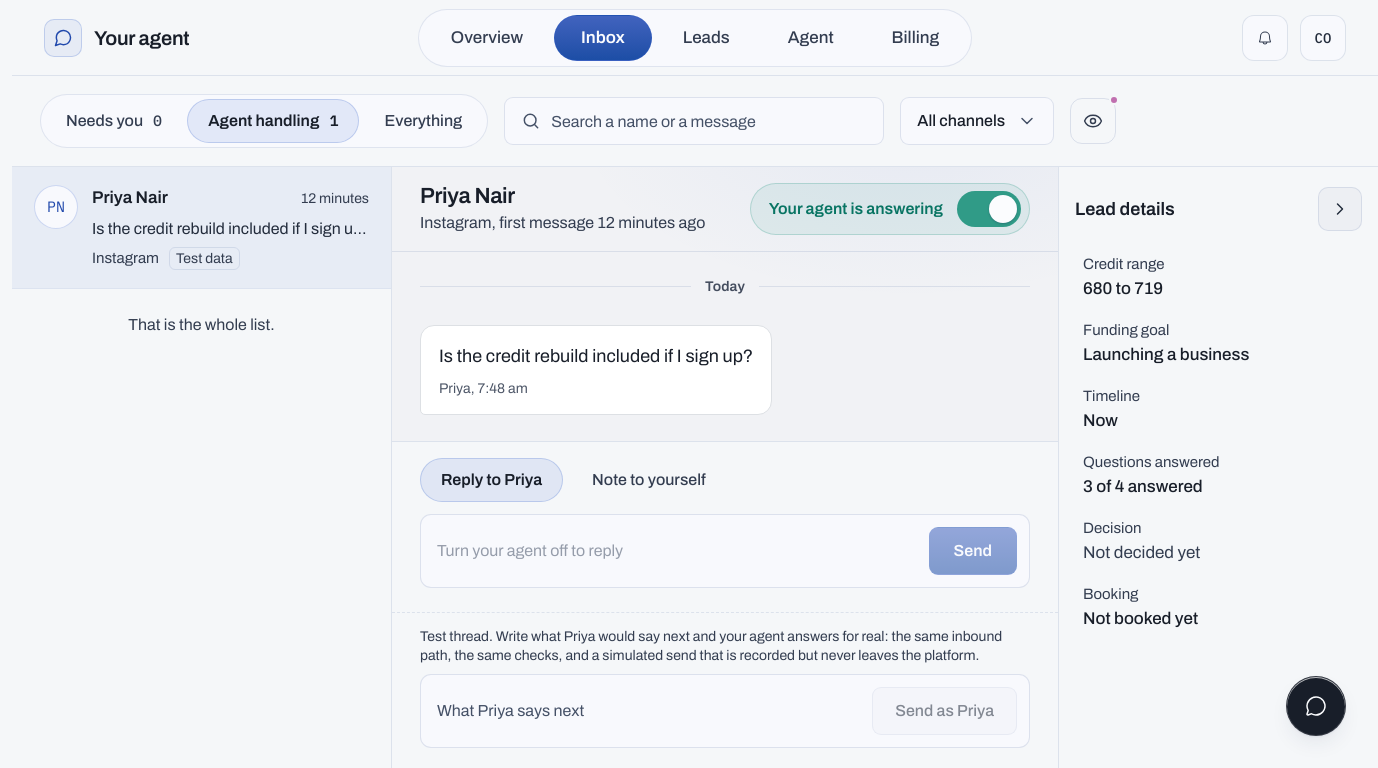
Test: CoachInbox rehearsal › treats a receipt read back as merely received the same way, even without the flag
Type "Still there?" into the text box named "Send as Priya" at (648, 711), box [437,687,858,735]
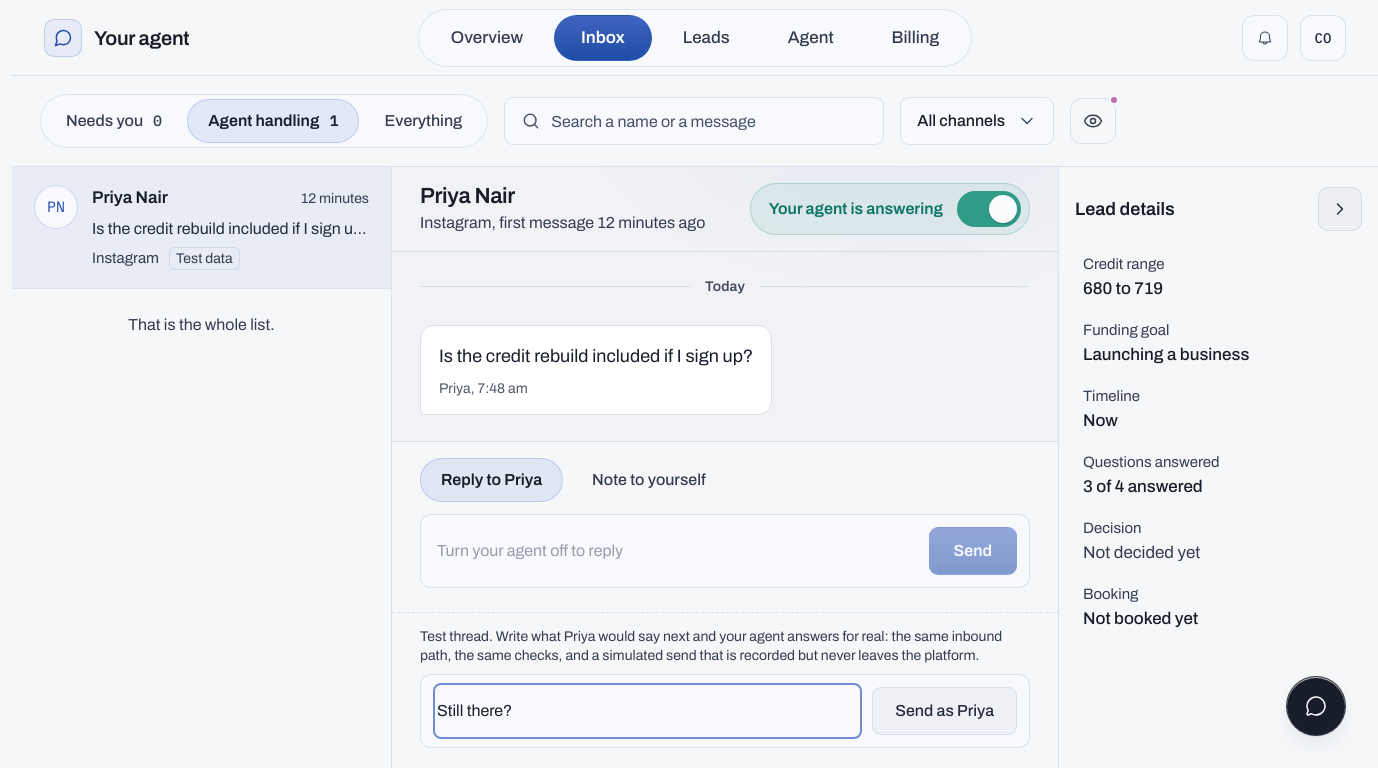
Click the button "Send as Priya" at (945, 711), box [872,687,1017,735]
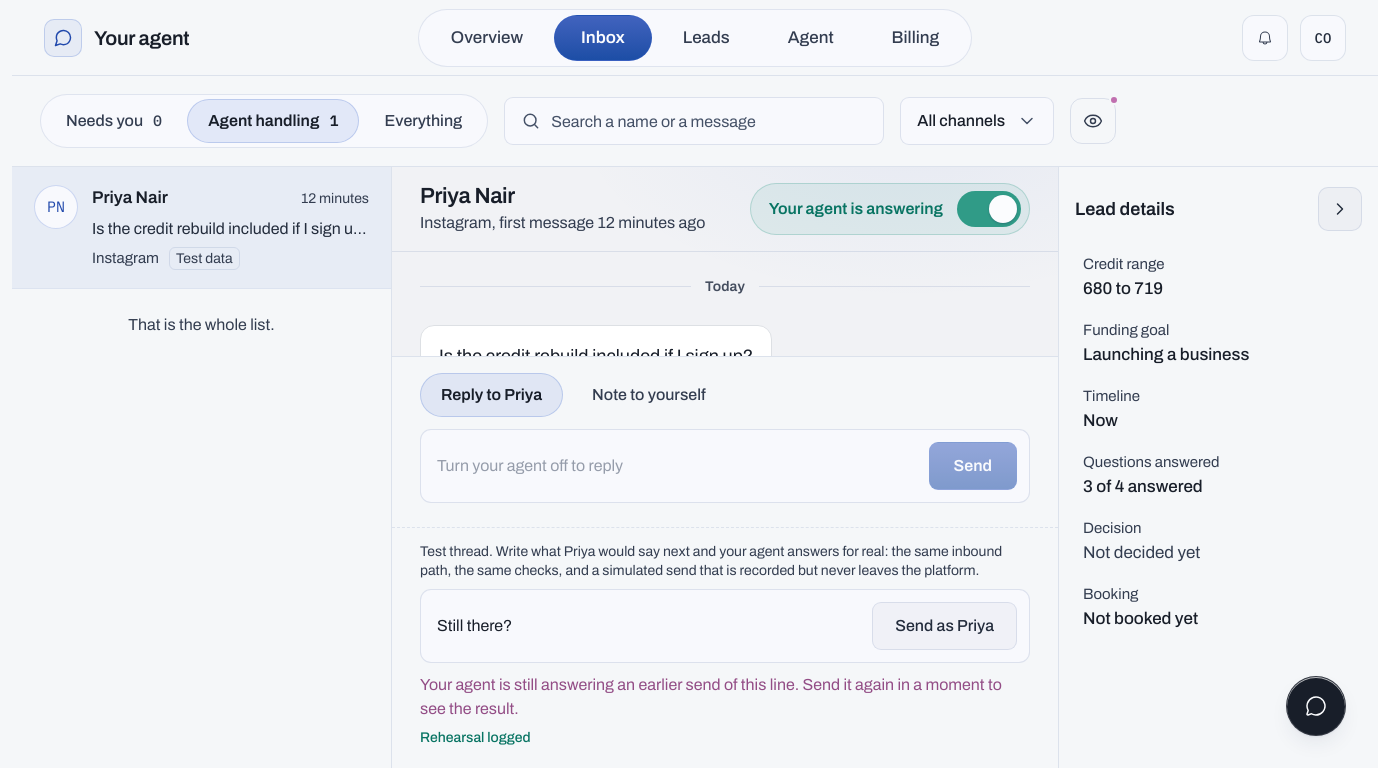
Expected: the text "Send it again in a moment" is shown, [420,676,1002,717]
